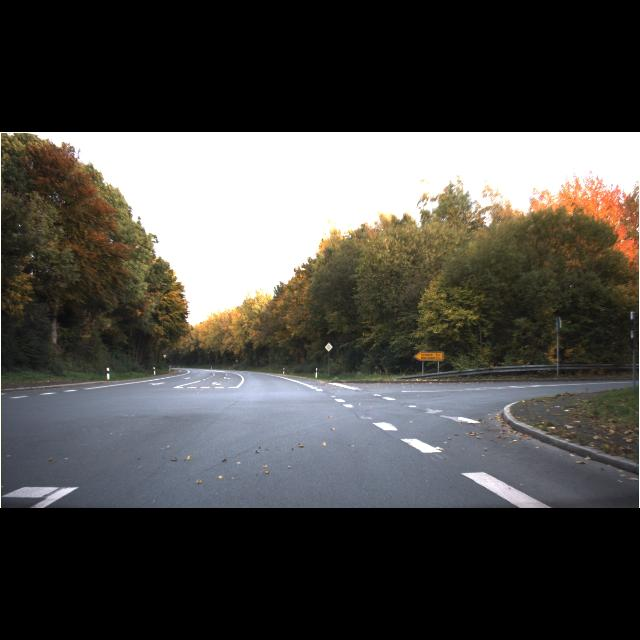other: (324, 342, 332, 352)
